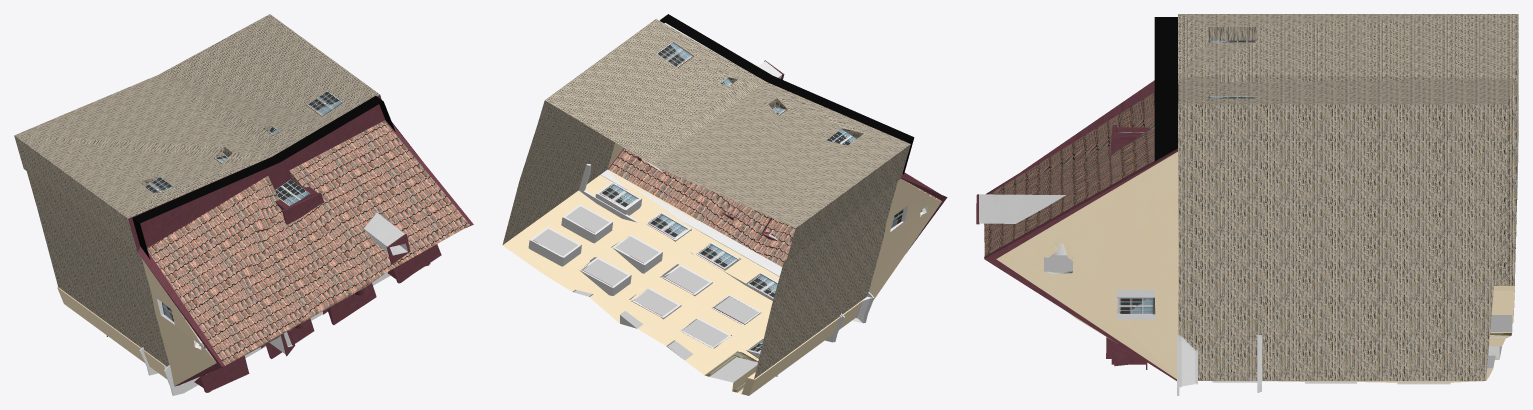
Rendered from Laboratooriumi_21-origo.obj.
3 views of the same model, side by side, from view 1: azimuth 30°, elevation 25°; view 2: azimuth 150°, elevation 25°; view 3: azimuth 270°, elevation 25° (orthographic). The views are drawn at different scales.
Visible parts, largest first — view 1: Laboratooriumi_21; view 2: Laboratooriumi_21; view 3: Laboratooriumi_21.
Boxes of the visible parts, box(x1,y1,x2,y2) form: Laboratooriumi_21: box(14, 14, 473, 395); Laboratooriumi_21: box(502, 14, 947, 395); Laboratooriumi_21: box(976, 14, 1518, 395).
Bounding box in the file's own units: 18.19 × 14 × 18.38.
